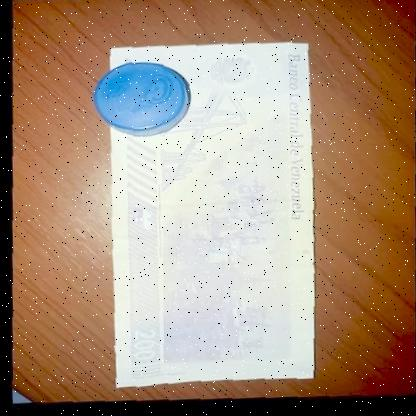vef_back: (104, 40, 317, 390)
